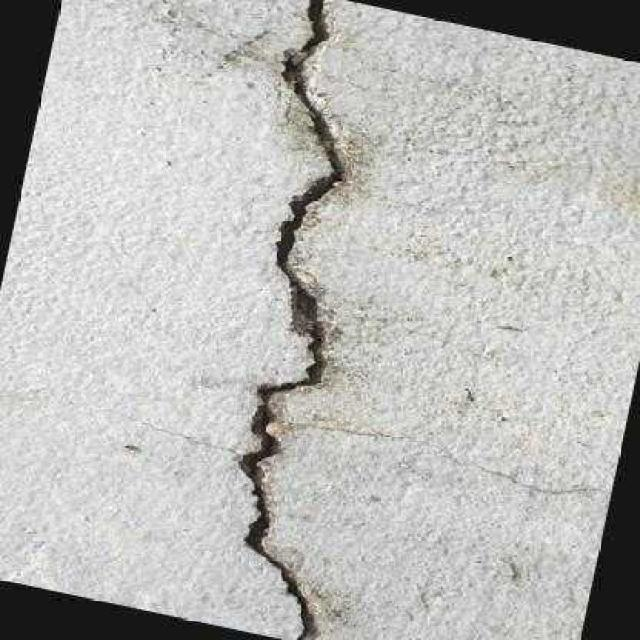D00: (238, 0, 352, 640)
